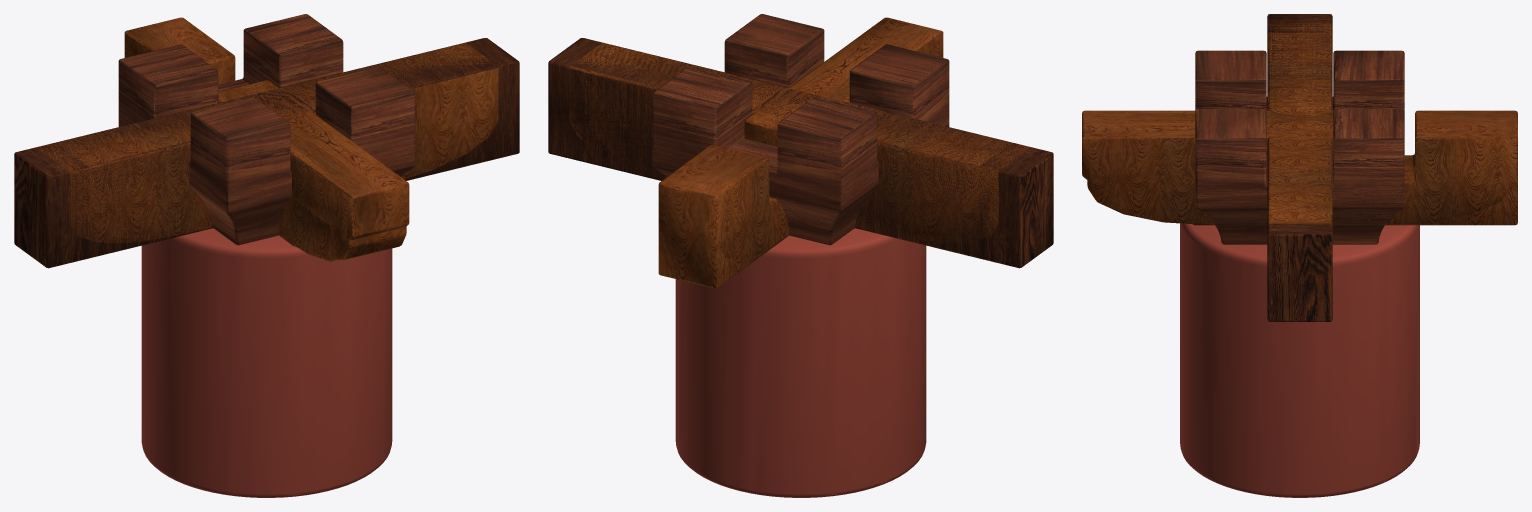
The model's file is dougong.glb.
The picture shows the model from 3 angles, left to right: view 1: azimuth 30°, elevation 25°; view 2: azimuth 150°, elevation 25°; view 3: azimuth 270°, elevation 25°; orthographic projection. The views are drawn at different scales.
Parts seen in each view (by area): view 1: dg_column, dg_栌斗, dg_泥道栱, dg_柱头枋, dg_华栱, dg_耍头, dg_撩檐枋, dg_令栱; view 2: dg_column, dg_栌斗, dg_柱头枋, dg_泥道栱, dg_撩檐枋, dg_耍头, dg_华栱, dg_令栱; view 3: dg_column, dg_栌斗, dg_华栱, dg_耍头, dg_泥道栱, dg_柱头枋, dg_令栱, dg_撩檐枋.
Boxes of the visible parts, box(x1,y1,x2,y2) form: dg_column: box(141, 228, 392, 497); dg_栌斗: box(118, 14, 415, 245); dg_泥道栱: box(37, 42, 498, 242); dg_柱头枋: box(14, 38, 519, 268); dg_华栱: box(127, 19, 406, 262); dg_耍头: box(124, 17, 409, 247); dg_撩檐枋: box(16, 38, 519, 266); dg_令栱: box(65, 50, 477, 238); dg_column: box(675, 228, 926, 497); dg_栌斗: box(652, 14, 949, 245); dg_柱头枋: box(548, 38, 1053, 268); dg_泥道栱: box(569, 42, 1030, 242); dg_撩檐枋: box(548, 38, 1053, 267); dg_耍头: box(658, 17, 943, 288); dg_华栱: box(663, 19, 939, 259); dg_令栱: box(589, 52, 1008, 237); dg_column: box(1180, 223, 1419, 497); dg_栌斗: box(1195, 50, 1404, 244); dg_华栱: box(1087, 110, 1509, 225); dg_耍头: box(1082, 110, 1517, 225); dg_泥道栱: box(1267, 23, 1332, 224); dg_柱头枋: box(1267, 14, 1332, 321); dg_令栱: box(1267, 32, 1332, 215); dg_撩檐枋: box(1267, 14, 1332, 321).
Bounding box in the file's own units: 0.24 × 0.18 × 0.2.
4 materials, 3 textured.
